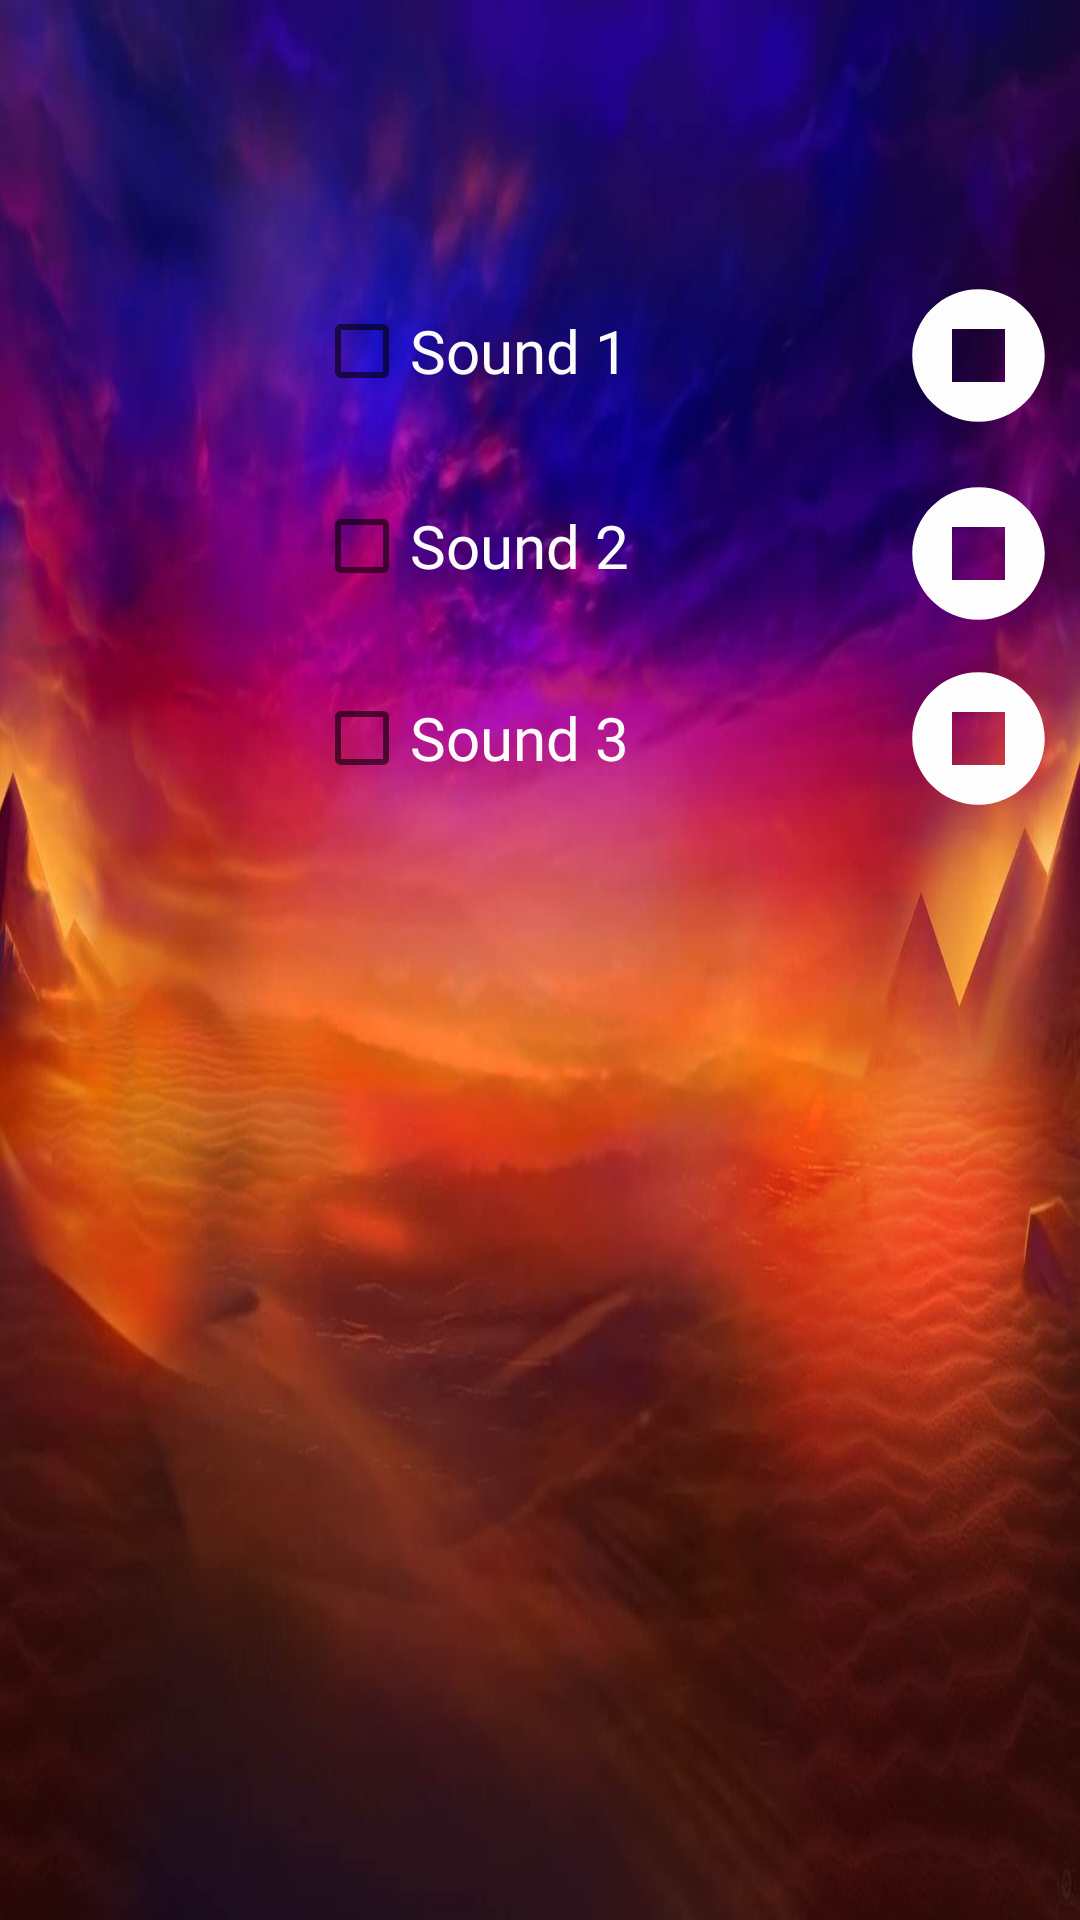

Icons on this 1080x1920 Android screen, each with the point to tap as [x,y]:
stop circle: [996,355], [973,553], [973,738]
